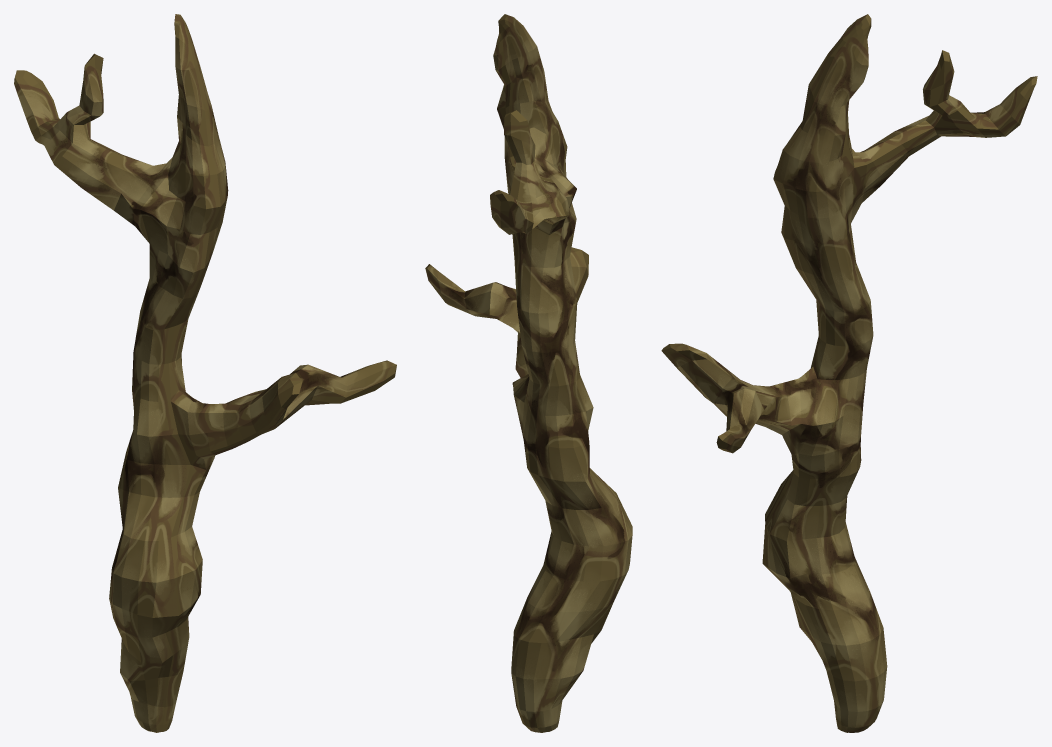
Rendered from branch2.fbx.
3 renders of one model, left to right at view 1: azimuth 30°, elevation 25°; view 2: azimuth 150°, elevation 25°; view 3: azimuth 270°, elevation 25°, orthographic. The views are drawn at different scales.
Visible parts, largest first — view 1: branch2; view 2: branch2; view 3: branch2.
Boxes of the visible parts, x1,y1,x2,y2 form: branch2: [14, 14, 396, 732]; branch2: [425, 14, 632, 732]; branch2: [661, 14, 1037, 732].
Bounding box in the file's own units: 363 × 1008 × 472.
